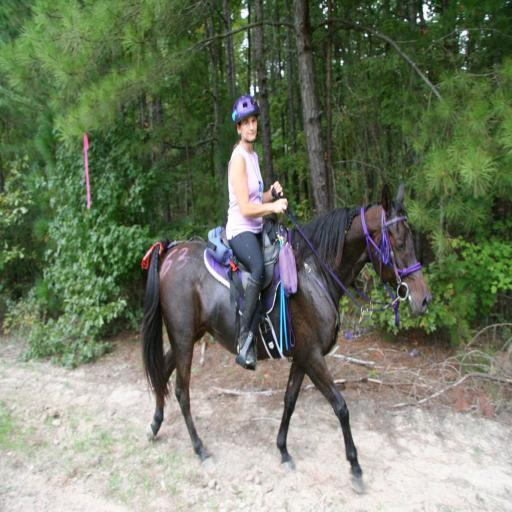horse: (140, 180, 432, 494)
